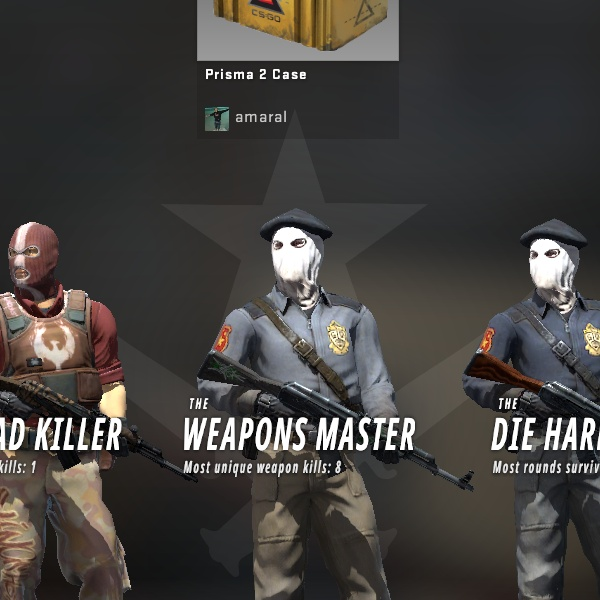t_body: (0, 195, 166, 600)
t_head: (0, 205, 92, 320)
